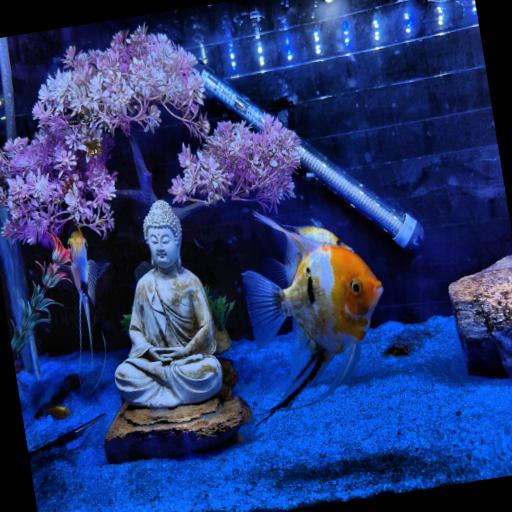Fish: (242, 213, 381, 416), (65, 221, 107, 356), (282, 226, 352, 252), (46, 406, 69, 419)
